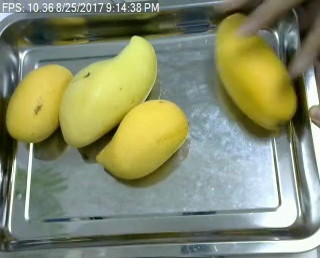Mango: (55, 31, 160, 150), (210, 11, 299, 131), (90, 97, 187, 181), (0, 62, 75, 142)
